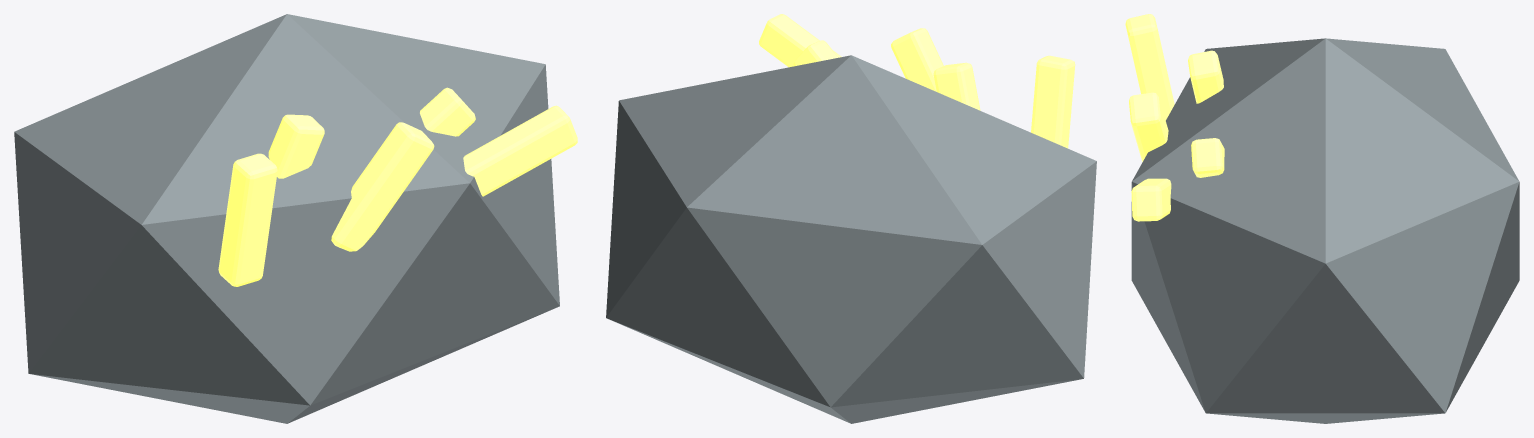
Rendered from prop_wildgold_vein_v1.glb.
3 views of the same model, side by side, from view 1: azimuth 30°, elevation 25°; view 2: azimuth 150°, elevation 25°; view 3: azimuth 270°, elevation 25° (orthographic). The views are drawn at different scales.
Parts seen in each view (by area): view 1: VeinRock, Wildgold_2, Wildgold_0, Wildgold_4, Wildgold_1, Wildgold_3; view 2: VeinRock, Wildgold_0, Wildgold_2, Wildgold_4, Wildgold_1, Wildgold_3; view 3: VeinRock, Wildgold_0, Wildgold_2, Wildgold_4, Wildgold_1, Wildgold_3.
Boxes of the visible parts, left/top/right/bottom form: VeinRock: left=14, top=14, right=559, bottom=423; Wildgold_2: left=331, top=122, right=434, bottom=251; Wildgold_0: left=218, top=153, right=277, bottom=286; Wildgold_4: left=463, top=105, right=577, bottom=196; Wildgold_1: left=268, top=114, right=324, bottom=178; Wildgold_3: left=420, top=87, right=475, bottom=136; VeinRock: left=606, top=55, right=1096, bottom=423; Wildgold_0: left=1031, top=55, right=1075, bottom=148; Wildgold_2: left=891, top=28, right=943, bottom=91; Wildgold_4: left=759, top=14, right=841, bottom=67; Wildgold_1: left=933, top=62, right=980, bottom=110; Wildgold_3: left=793, top=40, right=838, bottom=66; VeinRock: left=1131, top=38, right=1519, bottom=423; Wildgold_0: left=1125, top=14, right=1174, bottom=120; Wildgold_2: left=1129, top=92, right=1168, bottom=161; Wildgold_4: left=1131, top=178, right=1171, bottom=221; Wildgold_1: left=1188, top=50, right=1223, bottom=103; Wildgold_3: left=1191, top=138, right=1224, bottom=177.
Bounding box in the file's own units: 1.11 × 0.84 × 0.778.
